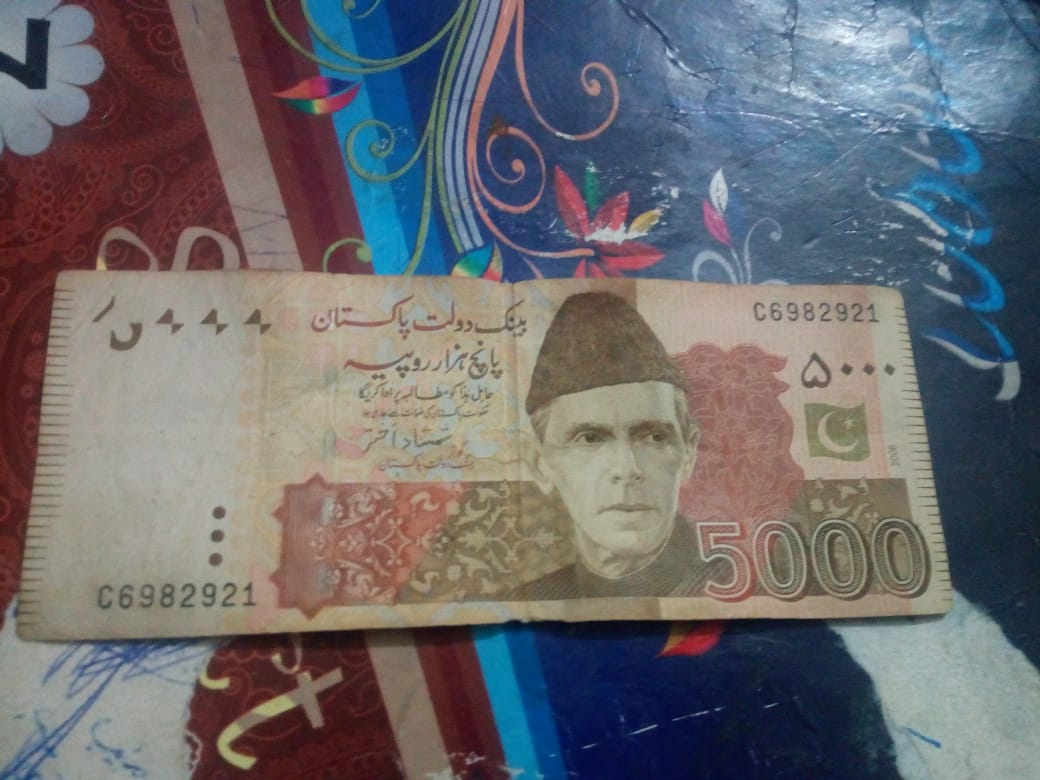5000 rupee: (29, 262, 955, 659)
